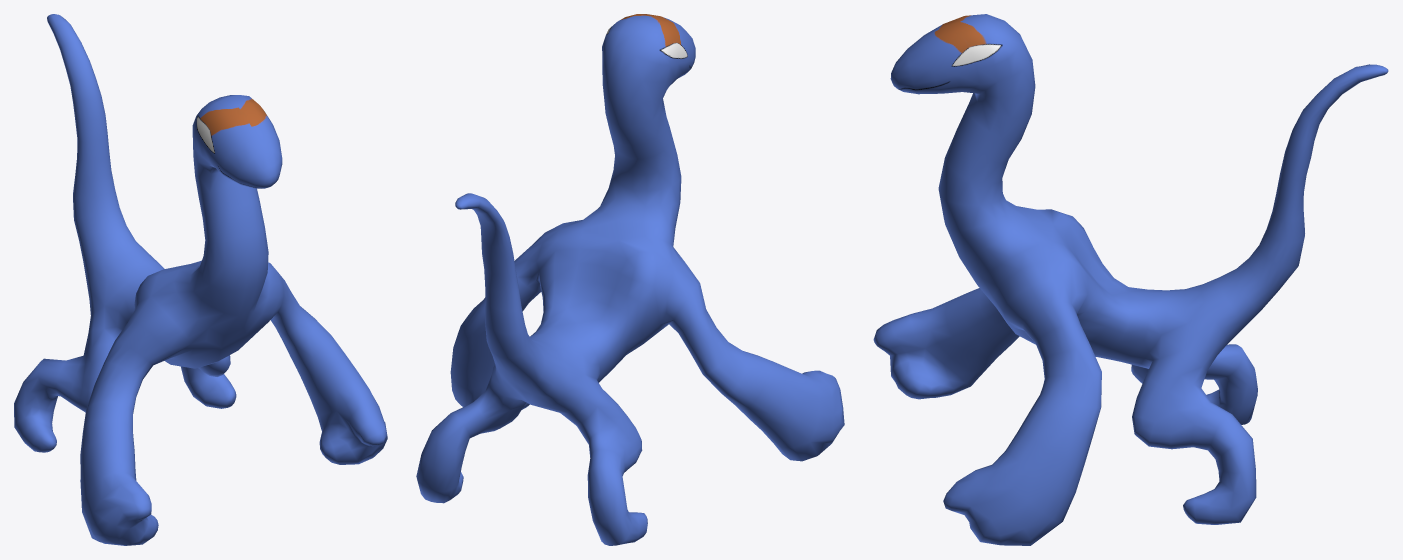
Rendered from pose2.obj.
3 renders of one model, left to right at view 1: azimuth 30°, elevation 25°; view 2: azimuth 150°, elevation 25°; view 3: azimuth 270°, elevation 25°, orthographic. The views are drawn at different scales.
Parts seen in each view (by area): view 1: LagartoBase_PolySphere; view 2: LagartoBase_PolySphere; view 3: LagartoBase_PolySphere.
Boxes of the visible parts, x1,y1,x2,y2 form: LagartoBase_PolySphere: (14, 14, 387, 545); LagartoBase_PolySphere: (416, 14, 844, 545); LagartoBase_PolySphere: (873, 14, 1388, 545).
Size of the model in its own units: 11.36 by 13.53 by 13.88.
Materials: 1 (1 with a texture image).
